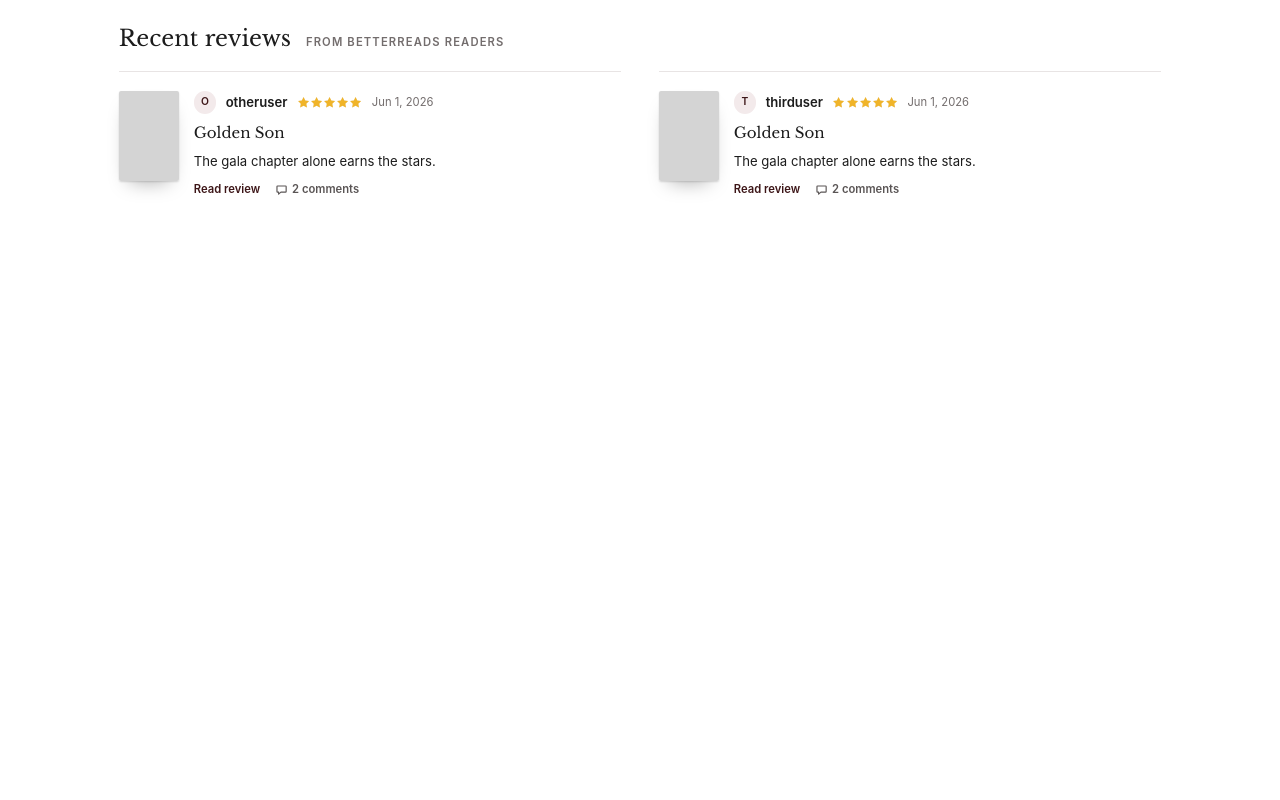
Test: RecentReviews › should show the previous review
Click the button named "Read thirduser's review of Golden Son" at (910, 144), box left=648, top=72, right=1172, bottom=215
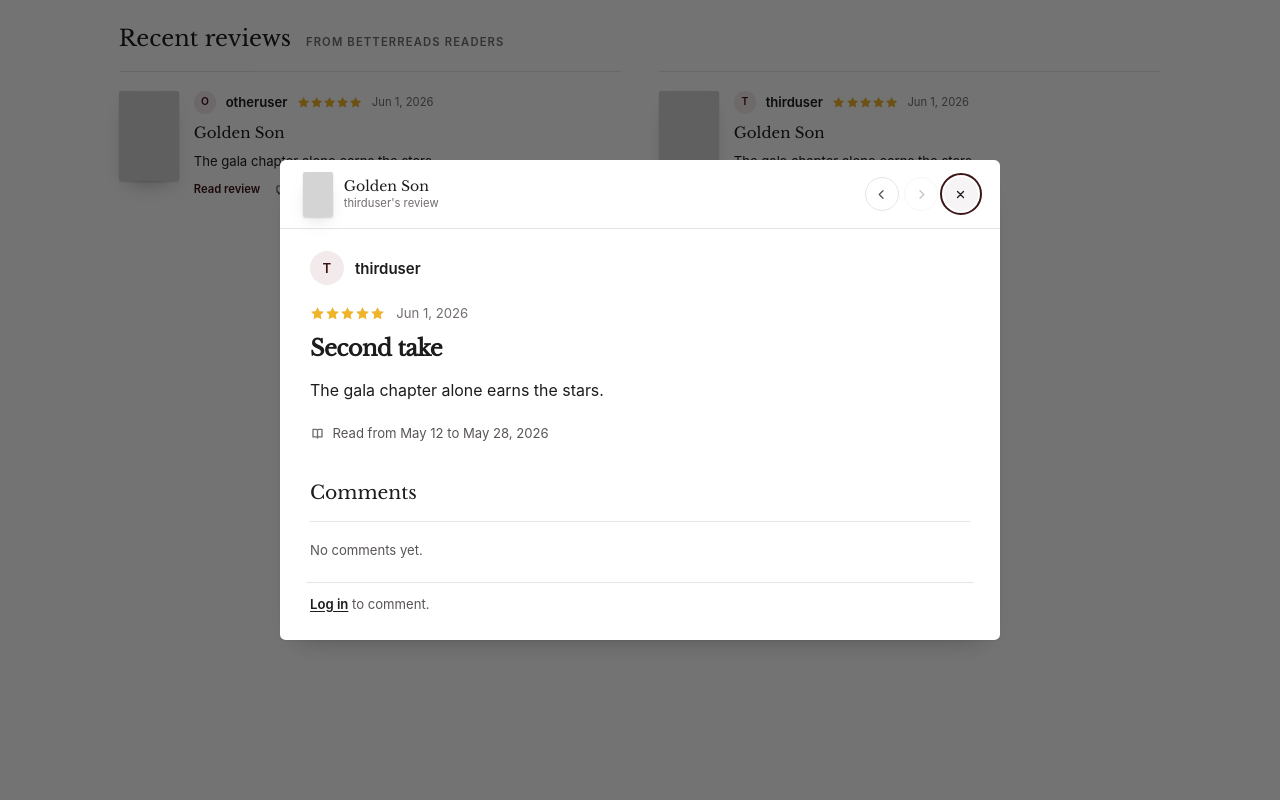
Click the button named "Previous review" at (882, 194), box left=865, top=177, right=899, bottom=211
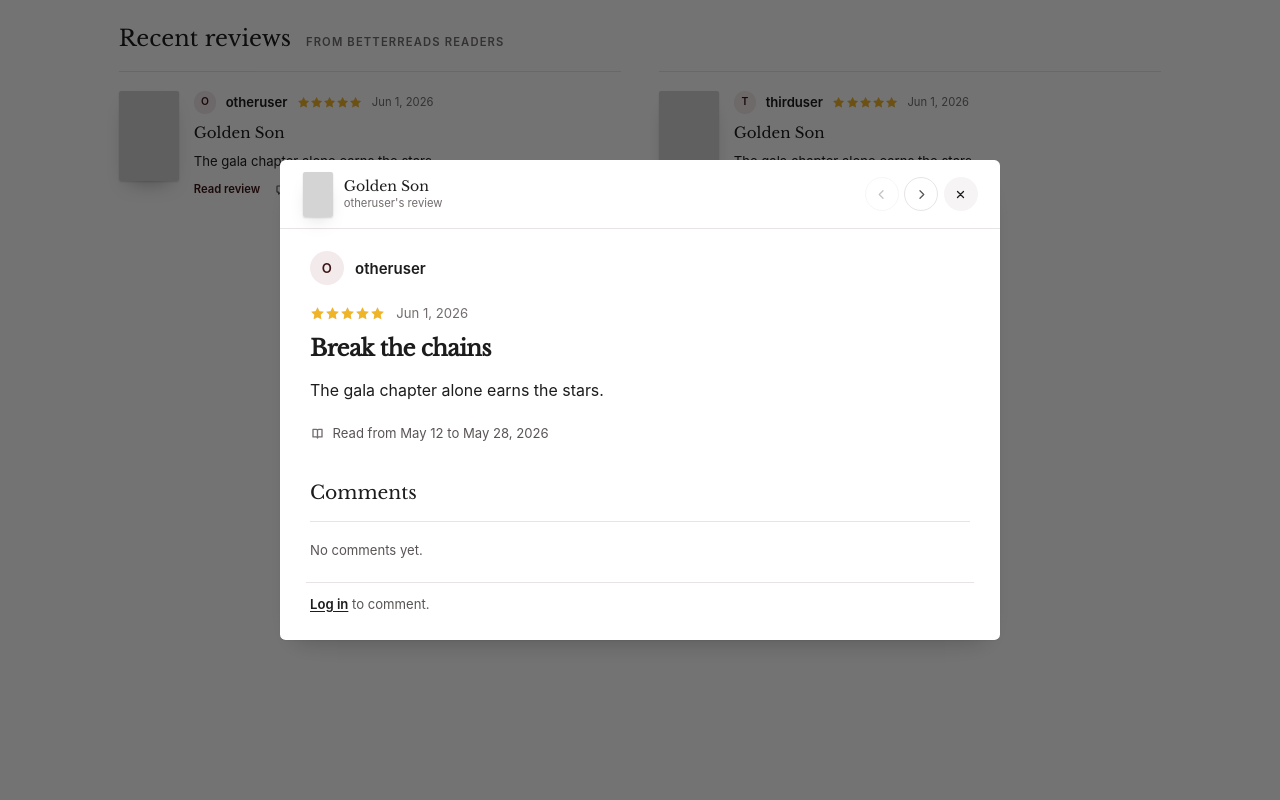
expect the heading "Break the chains" is shown: met, box left=310, top=334, right=491, bottom=362
